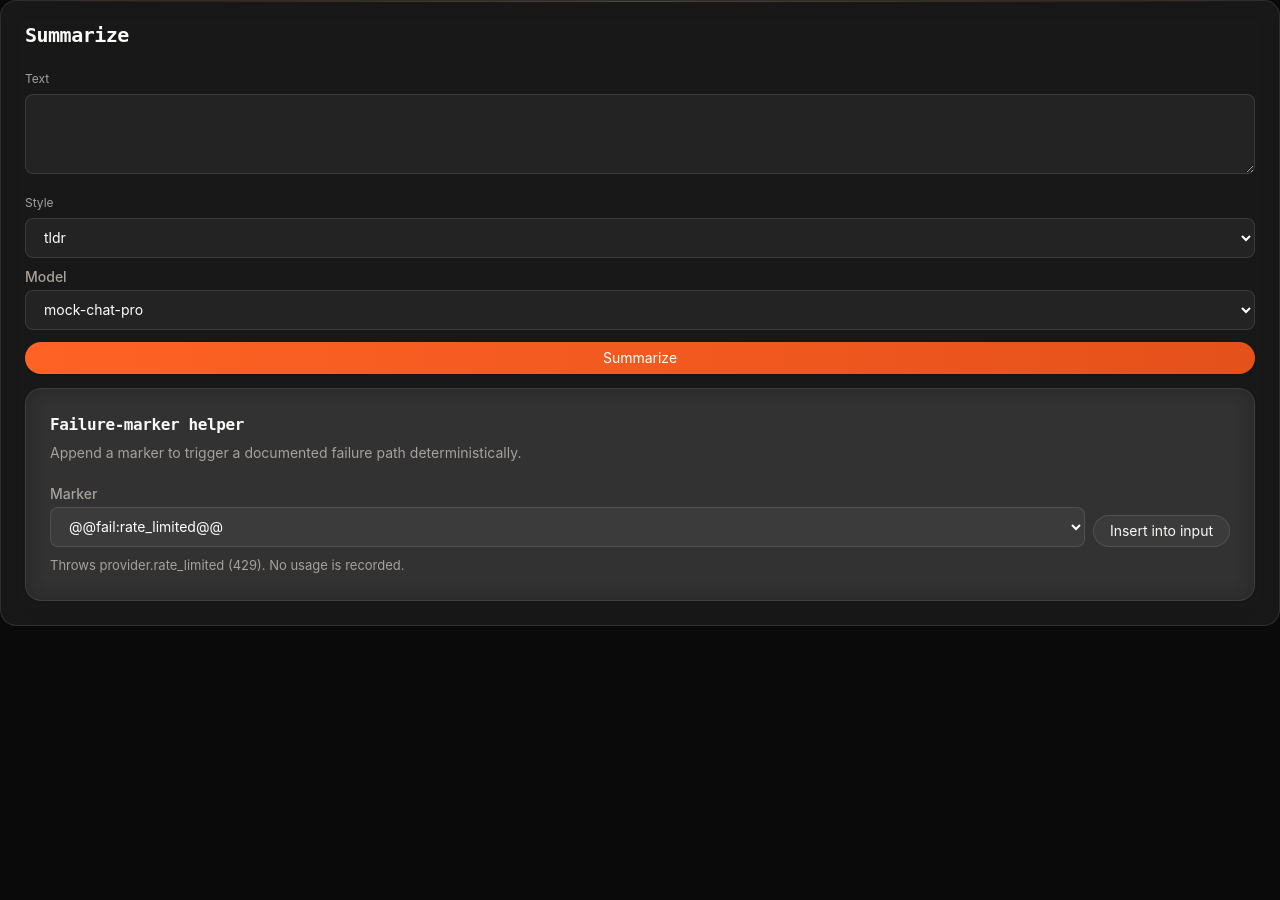
Test case: SummarizeCard › renders the error envelope on a rejection
Type "a long article" into the text box labelled "Text" at (640, 134), box [25,94,1255,174]
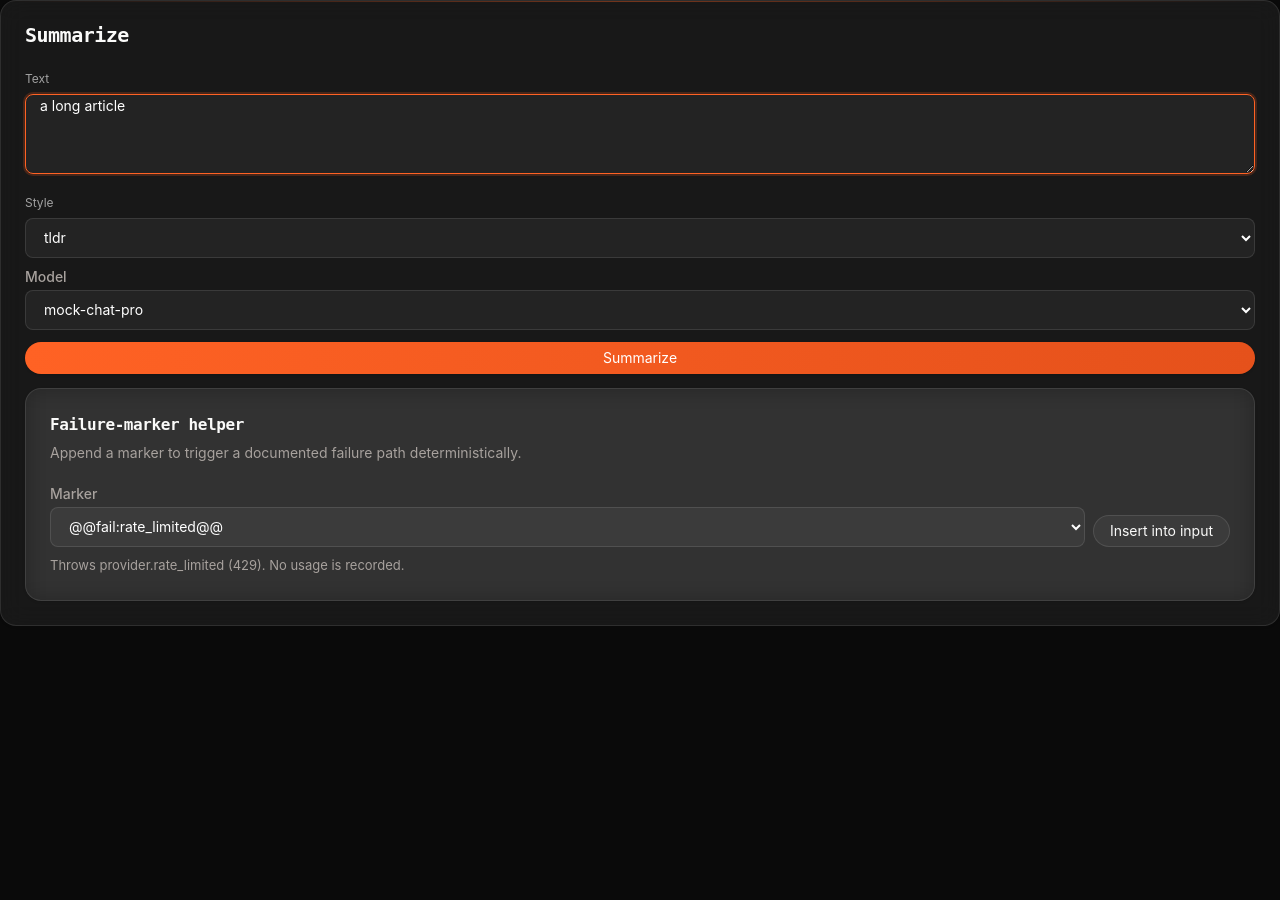
Click the button "Summarize" at (640, 358), box [25,342,1255,374]
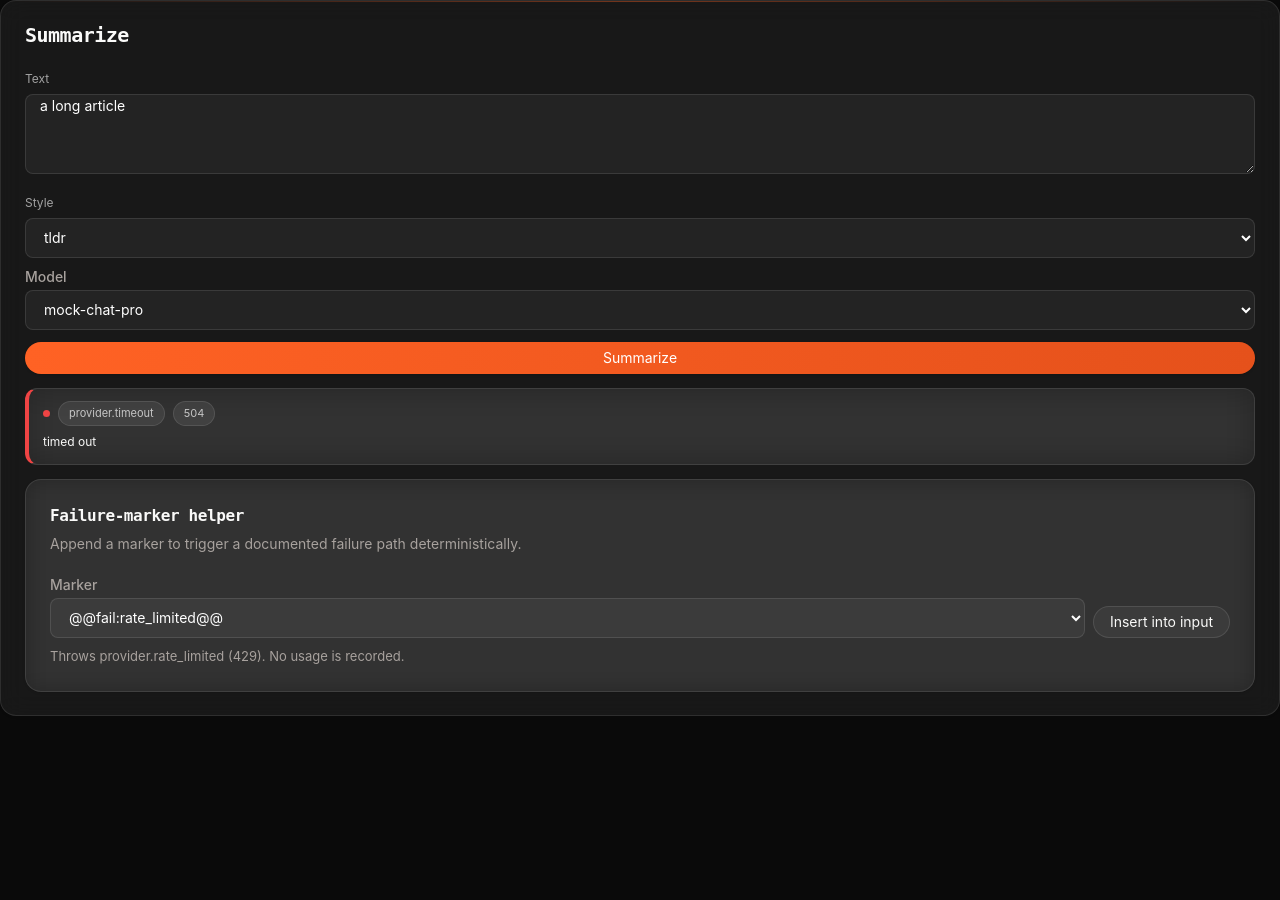
Expected: the message shows "timed out", [43,434,96,449]
